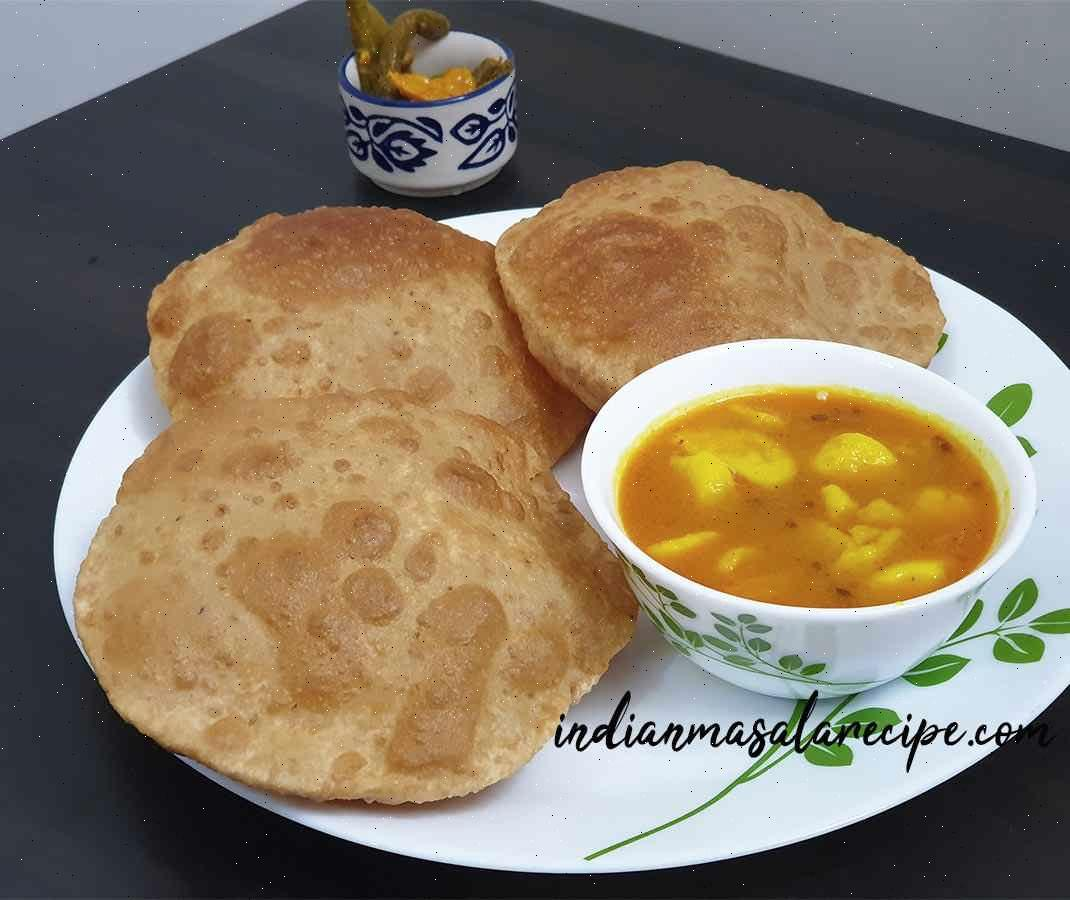puri: (140, 218, 585, 838)
